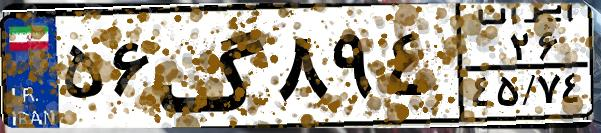2: (508, 27, 537, 80)
4: (385, 28, 445, 110), (560, 70, 590, 125), (470, 70, 495, 125)
5: (57, 26, 110, 100), (495, 70, 520, 125)
6: (110, 28, 156, 98), (537, 27, 568, 80)
7: (535, 70, 560, 125)
8: (270, 28, 330, 110)
9: (330, 28, 385, 110)
گ: (156, 12, 270, 120)
